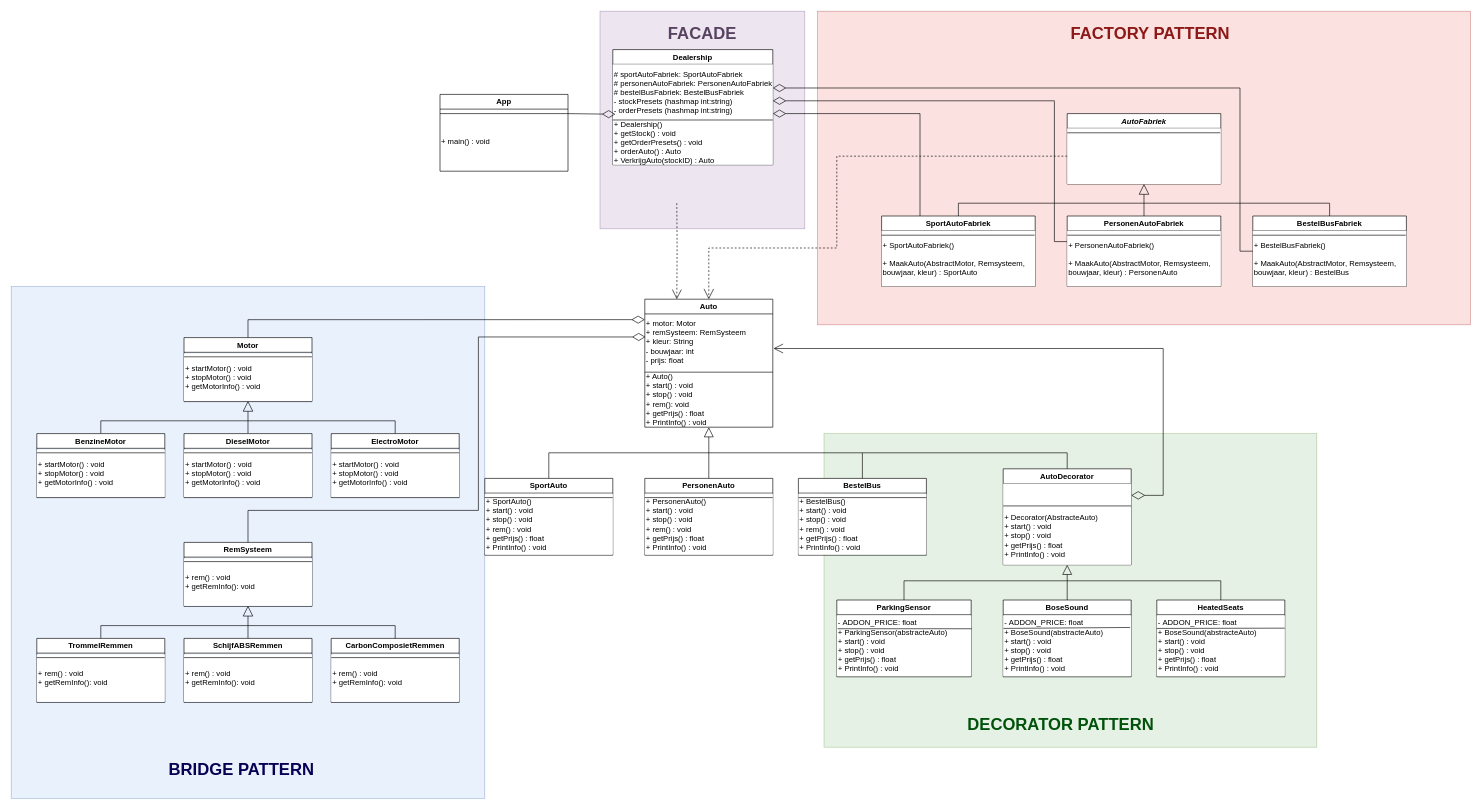
Some shapes in this 1482 by 810 pixel diagram are drawn without their labels. Each missing label, with the centre of its shape:
"# auto: Auto - ADDON_PRICE: float" goes at point (1067, 495).
"+ AutoFabriek() + MaakAuto(AbstractMotor, Remsysteem, bouwjaar, kleur) : Auto" goes at point (1143, 156).
